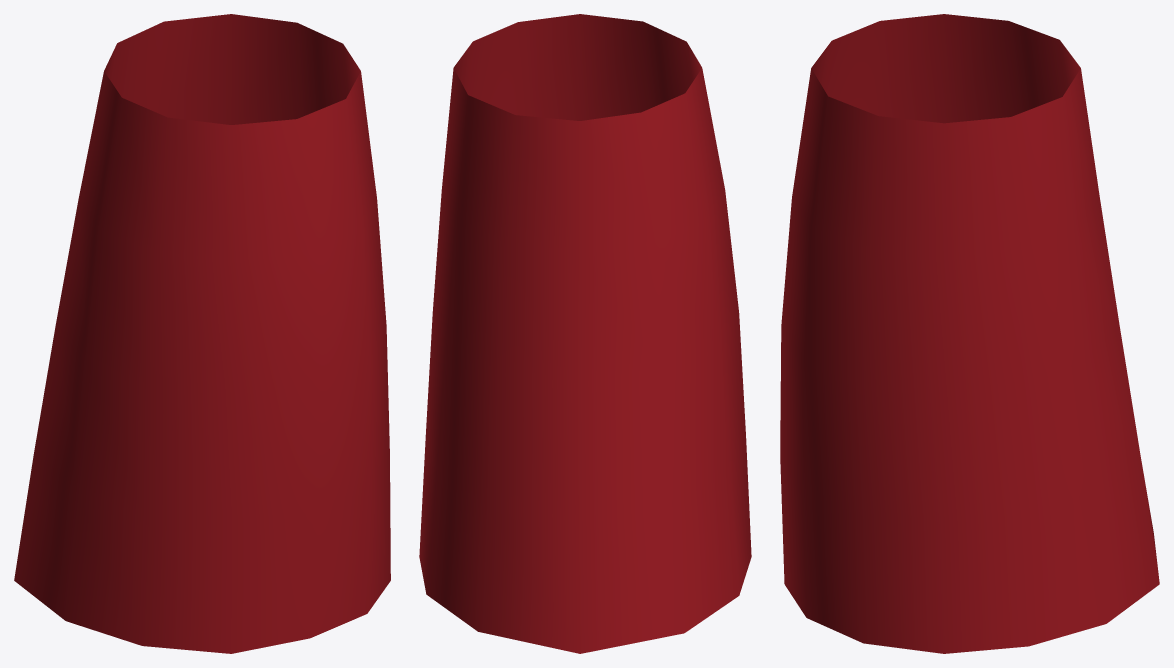
Rendered from santa_costume_cuisse.R.glb.
3 renders of one model, left to right at view 1: azimuth 30°, elevation 25°; view 2: azimuth 150°, elevation 25°; view 3: azimuth 270°, elevation 25°, orthographic. The views are drawn at different scales.
Visible parts, largest first — view 1: santa_costume_cuisse.R; view 2: santa_costume_cuisse.R; view 3: santa_costume_cuisse.R.
Boxes of the visible parts, x1,y1,x2,y2 form: santa_costume_cuisse.R: (14, 14, 390, 653); santa_costume_cuisse.R: (419, 14, 751, 653); santa_costume_cuisse.R: (780, 14, 1159, 653).
Size of the model in its own units: 0.2329 by 0.37 by 0.2466.
